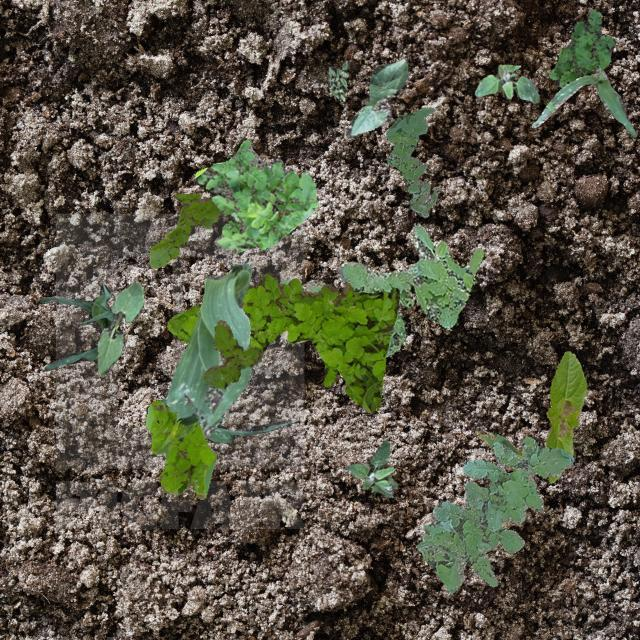crop: (164, 262, 250, 438), (530, 66, 636, 136), (40, 284, 114, 369), (160, 396, 290, 442), (544, 350, 588, 482), (346, 58, 408, 138), (474, 430, 524, 528), (96, 280, 142, 374)
weed: (166, 272, 398, 411), (280, 222, 482, 356), (417, 436, 572, 592), (194, 138, 316, 252), (144, 399, 216, 498), (384, 106, 438, 216), (148, 192, 220, 266), (548, 7, 614, 86), (202, 318, 260, 388), (346, 439, 396, 496), (474, 64, 538, 102), (326, 59, 348, 100)
